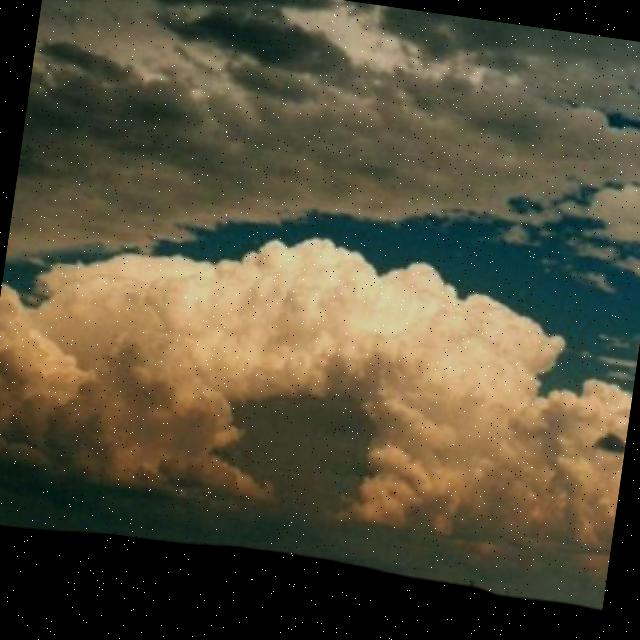Cu: (1, 42, 640, 566)
